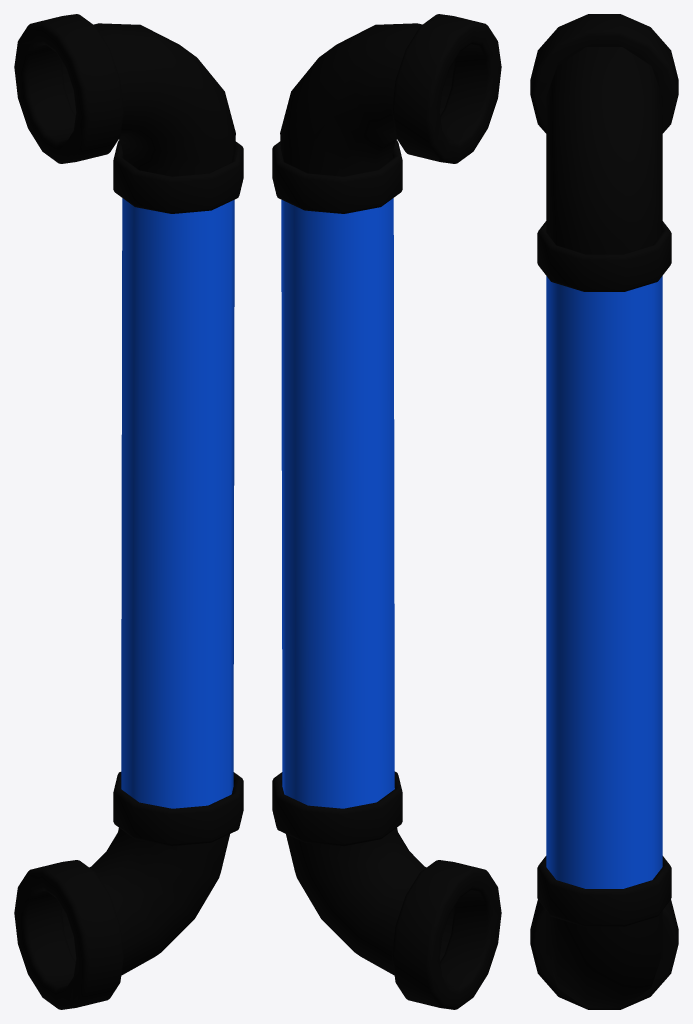
File: LevelRework_WallTube_BodyBaked.fbx
3 renders of one model, left to right at view 1: azimuth 30°, elevation 25°; view 2: azimuth 150°, elevation 25°; view 3: azimuth 270°, elevation 25°, orthographic.
Visible parts, largest first — view 1: WallTube_BodyBaked, WallTube_ConnectorsBaked, WallTube_RingsBaked; view 2: WallTube_BodyBaked, WallTube_ConnectorsBaked, WallTube_RingsBaked; view 3: WallTube_BodyBaked, WallTube_RingsBaked, WallTube_ConnectorsBaked.
Part boxes in pixels (left/top/right/bottom): WallTube_BodyBaked: left=62, top=23, right=235, bottom=975; WallTube_ConnectorsBaked: left=14, top=14, right=123, bottom=1009; WallTube_RingsBaked: left=113, top=140, right=243, bottom=846; WallTube_BodyBaked: left=280, top=23, right=453, bottom=975; WallTube_ConnectorsBaked: left=392, top=14, right=501, bottom=1009; WallTube_RingsBaked: left=272, top=140, right=402, bottom=846; WallTube_BodyBaked: left=546, top=47, right=662, bottom=1008; WallTube_RingsBaked: left=537, top=221, right=671, bottom=926; WallTube_ConnectorsBaked: left=530, top=14, right=678, bottom=1009.
Size of the model in its own units: 55.81 by 283 by 38.76.
